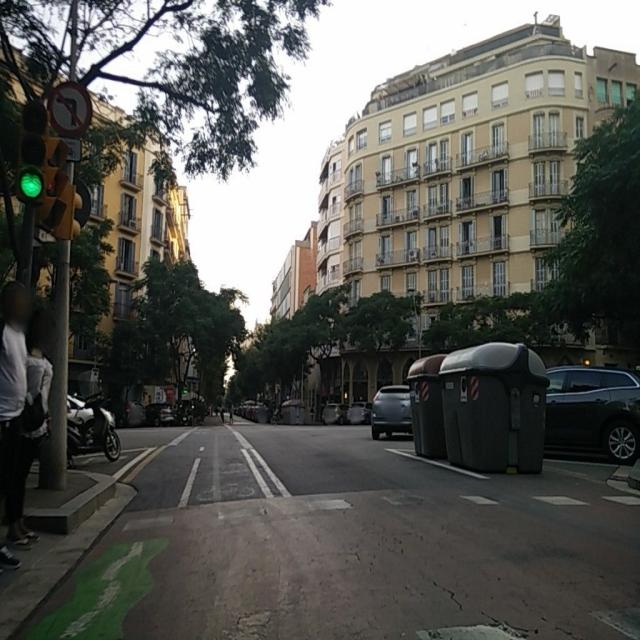bike: (64, 392, 122, 466)
car: (370, 384, 415, 440), (112, 399, 147, 428), (144, 401, 182, 427), (346, 400, 373, 426), (321, 402, 345, 426), (245, 401, 257, 420), (240, 400, 252, 418)
